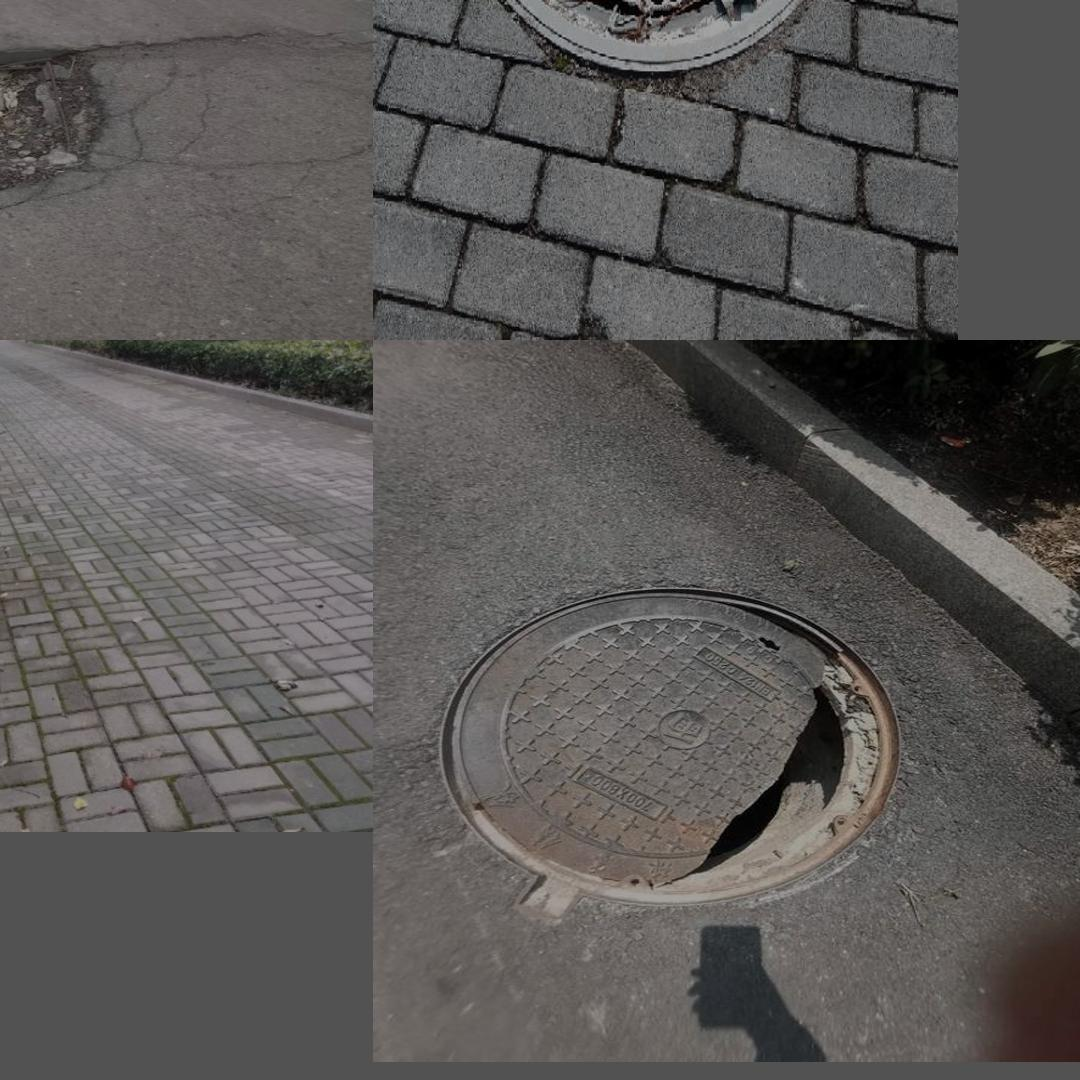broke: (428, 567, 913, 919), (426, 0, 870, 103), (0, 7, 177, 246)
